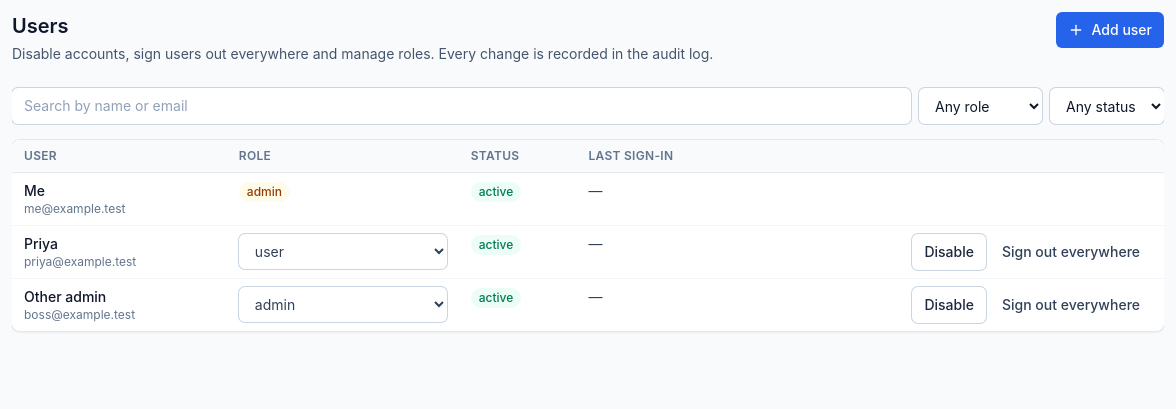
Test case: UsersPage › lets a superadmin change roles and shows the API refusal
Select "user" in the dropdown named "Role of boss@example.test" at x=343, y=304, box [239, 287, 447, 322]
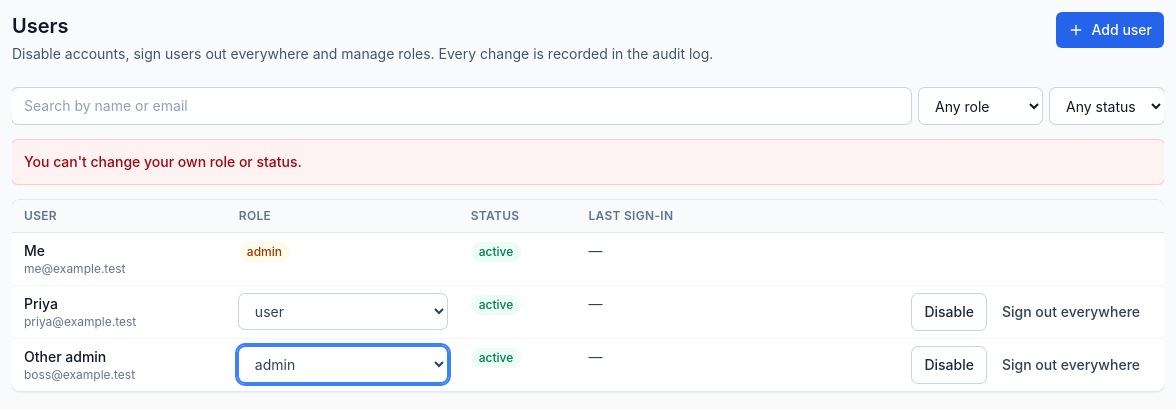
Expected: the text "You can't change your own role or status." is shown, [24, 153, 302, 170]
